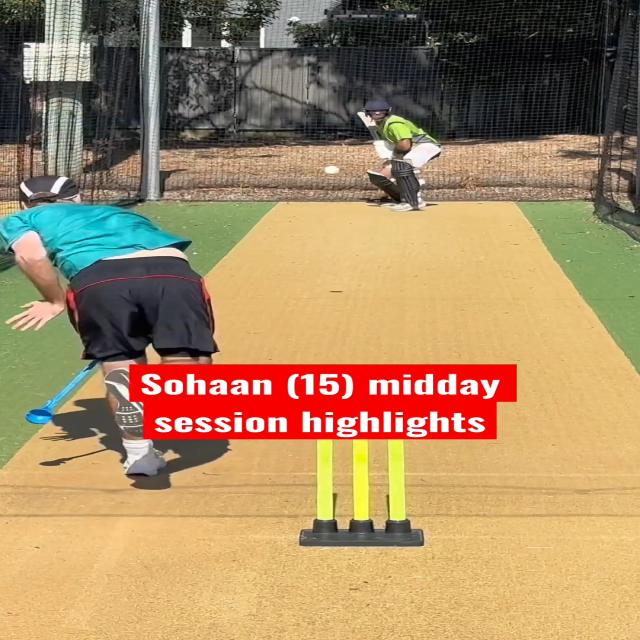ball: (323, 164, 340, 176)
stump: (308, 439, 418, 548)
